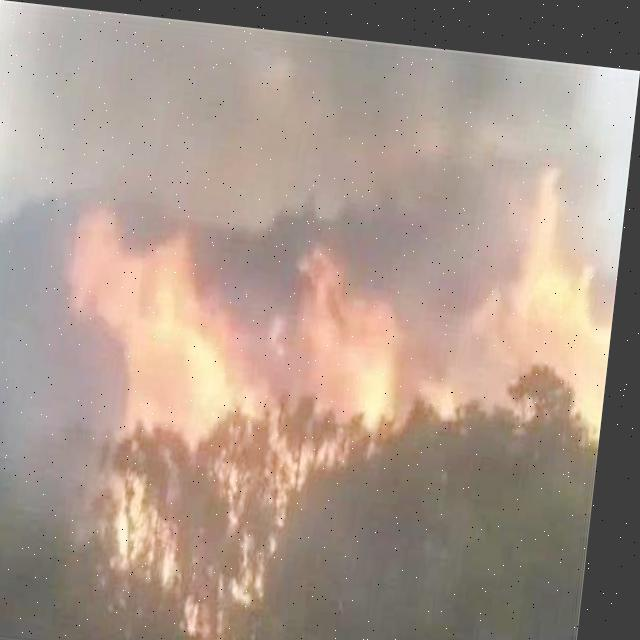Fire: (49, 183, 444, 639), (466, 154, 628, 428)
